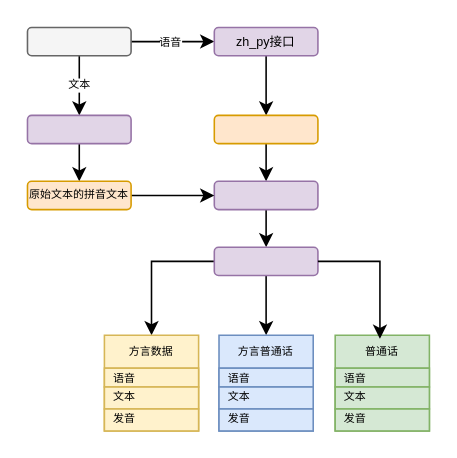
Image size: 457x458. Some labels were removed from this diagram. Here are the shapes that lost their labels. From the top down, the box of each, then its label:
(26, 26, 131, 56): 普通话+方言数据
(26, 114, 131, 144): pypinyin
(213, 114, 318, 144): 语音的拼音文本
(213, 180, 318, 210): 计算拼音的wer
(213, 246, 318, 276): 筛选规则
